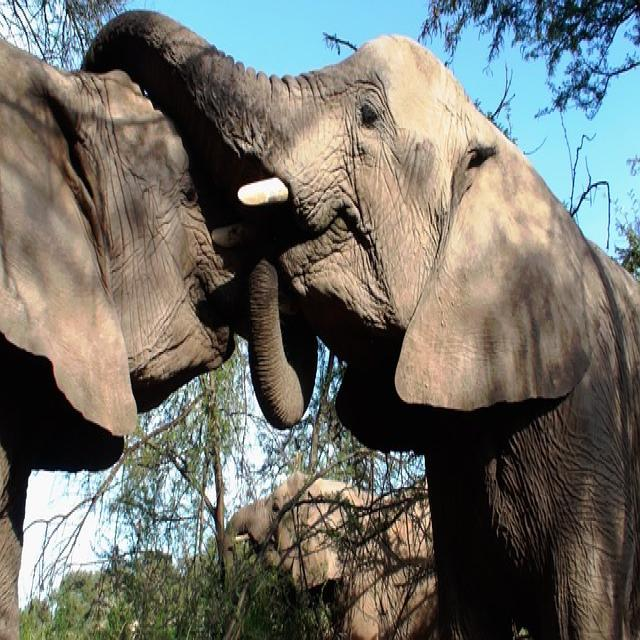elephant: (86, 13, 640, 636), (0, 43, 248, 637)
